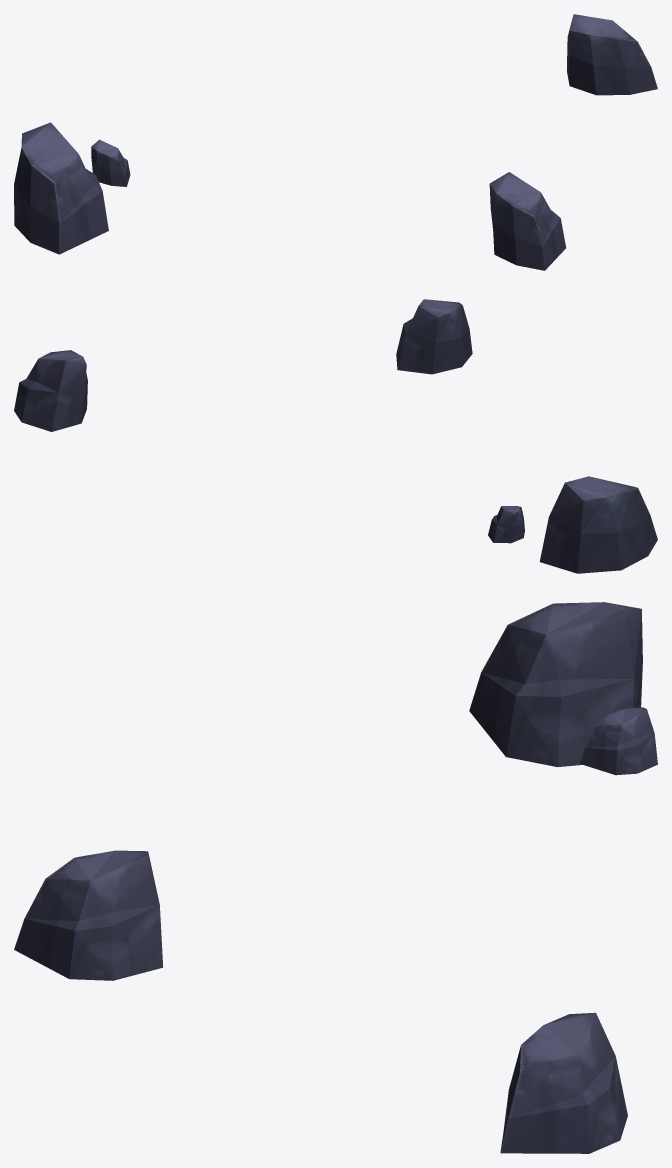
File: Area06_23.fbx
The picture shows the model from 3 angles, top to bottom: view 1: azimuth 30°, elevation 25°; view 2: azimuth 150°, elevation 25°; view 3: azimuth 270°, elevation 25°; orthographic projection. The views are drawn at different scales.
Visible parts, largest first — view 1: Area06_23; view 2: Area06_23; view 3: Area06_23.
Part boxes in pixels (x1,y1,x2,y2): Area06_23: (14,14,657,270); Area06_23: (14,299,657,573); Area06_23: (14,602,657,1153).
Size of the model in its own units: 2591 by 338 by 1517.
